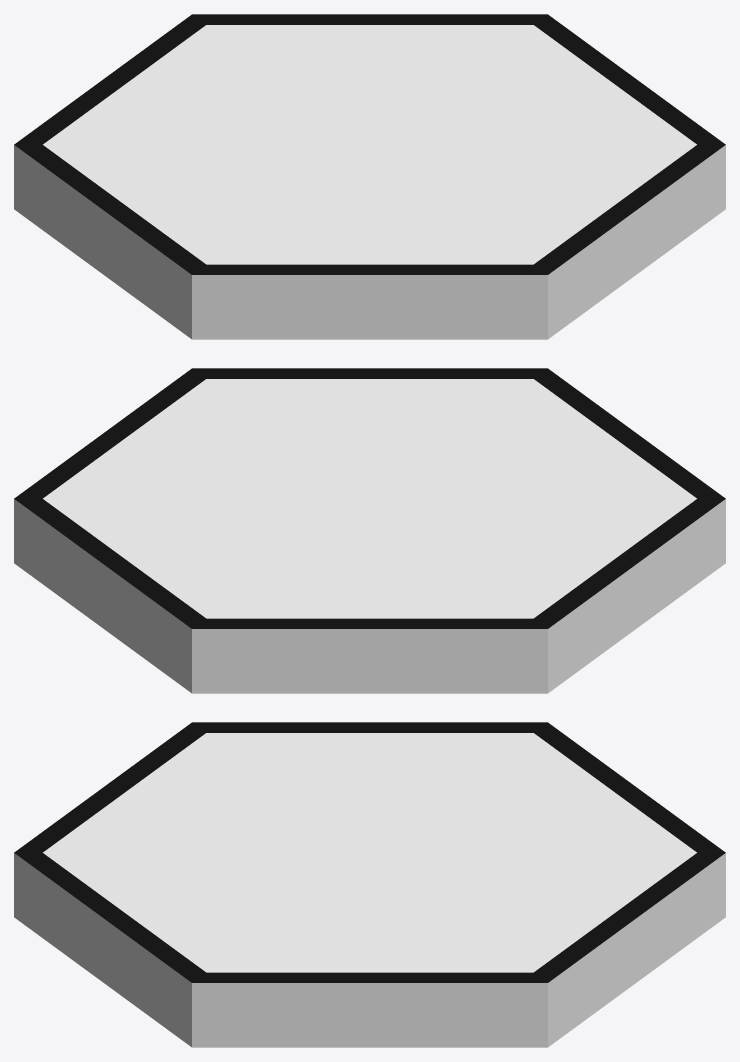
File: null_tile.glb
The picture shows the model from 3 angles, top to bottom: view 1: azimuth 30°, elevation 25°; view 2: azimuth 150°, elevation 25°; view 3: azimuth 270°, elevation 25°; orthographic projection.
Parts seen in each view (by area): view 1: NullTile; view 2: NullTile; view 3: NullTile.
Part boxes in pixels (x1,y1,x2,y2): NullTile: [14, 14, 725, 339]; NullTile: [14, 368, 725, 693]; NullTile: [14, 722, 725, 1047].
Size of the model in its own units: 1.73 by 0.2 by 2.
Materials: 1 (1 with a texture image).
